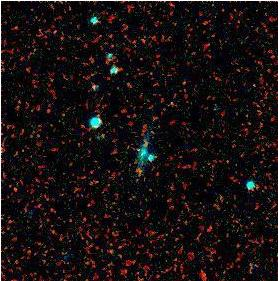star: (123, 153, 153, 183)
